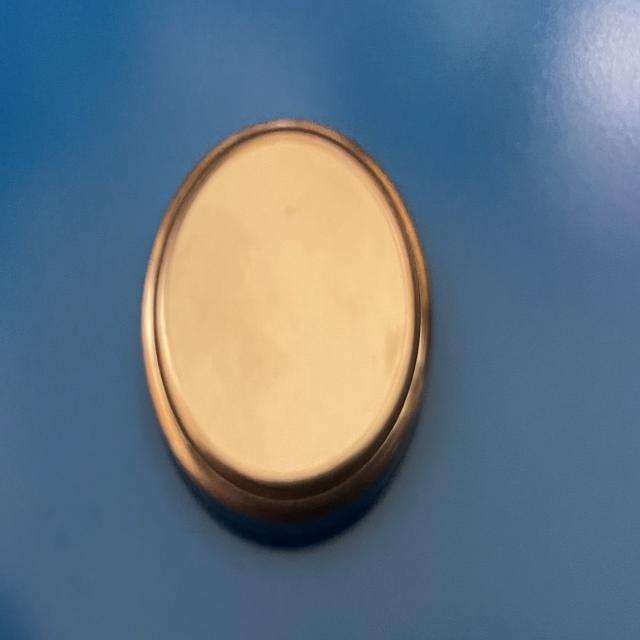COIN: (139, 116, 434, 540)
